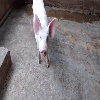heo: (30, 1, 57, 69)
